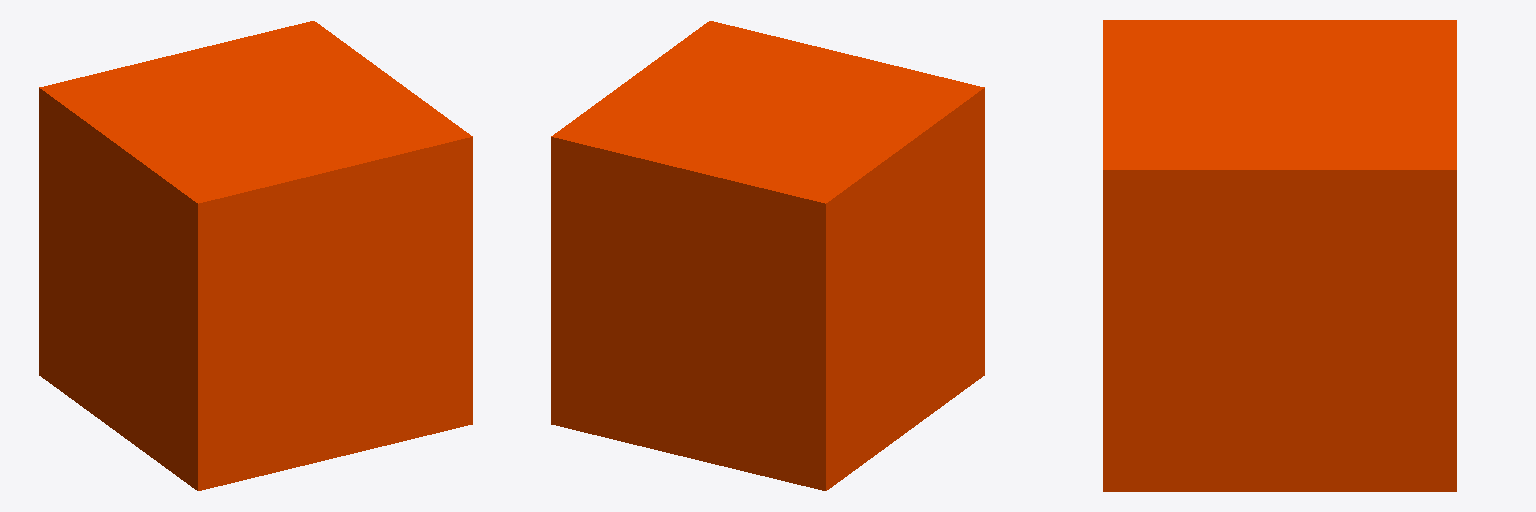
robot.urdf — cube_robot:
?<?xml version="1.0" encoding="utf-8"?>
<robot name="cube_robot">
  <material name="Powder Coat (Red)">
    <color rgba="0.9804 0.3412 0 1" />
  </material>
  <material name="No Name">
    <color rgba="1 1 1 1" />
  </material>
  <material name="Default-Material">
    <color rgba="1 1 1 1" />
  </material>
  <material name="black">
    <color rgba="0 0 0 1" />
  </material>
  <link name="base_footprint" />
  <link name="base_link">
    <inertial>
      <origin rpy="0 0 0" xyz="0.01 0 0" />
      <mass value="2" />
      <inertia ixx="0.0199950002133846" ixy="0" ixz="0" iyy="0.0199950002133846" iyz="0" izz="0.0367499999701977" />
    </inertial>
    <visual>
      <origin rpy="0 4.712389 -1.570796" xyz="0 0 0.05949" />
      <geometry>
        <box size="1 1 1" />
      </geometry>
      <material name="Powder Coat (Red)" />
    </visual>
    <collision>
      <origin rpy="0 4.712389 -1.570796" xyz="0 0 0.05949" />
      <geometry>
        <box size="1 1 1" />
      </geometry>
    </collision>
    <collision>
      <origin xyz="0 0 0.05" />
      <geometry>
        <box size="0.7 0.53 0.03" />
      </geometry>
    </collision>
  </link>
  <link name="wheel_left_link">
    <inertial>
      <origin rpy="0 0 0" xyz="0 0 0" />
      <mass value="0.0099999998" />
      <inertia ixx="0.00100000004749745" ixy="0" ixz="0" iyy="0.00100000004749745" iyz="0" izz="0.00100000004749745" />
    </inertial>
    <visual>
      <origin xyz="0 0 0.015" />
      <geometry>
        <mesh filename="package://meshes/AGV-WHEEL.stl" scale="1 1 1" />
      </geometry>
      <material name="No Name" />
    </visual>
    <collision>
      <geometry>
        <cylinder length="0.03" radius="0.1" />
      </geometry>
    </collision>
  </link>
  <link name="wheel_right_link">
    <inertial>
      <origin rpy="0 0 0" xyz="0 0 0" />
      <mass value="0.0099999998" />
      <inertia ixx="0.00100000004749745" ixy="0" ixz="0" iyy="0.00100000004749745" iyz="0" izz="0.00100000004749745" />
    </inertial>
    <visual>
      <origin xyz="0 0 0.015" />
      <geometry>
        <mesh filename="package://meshes/AGV-WHEEL.stl" scale="1 1 1" />
      </geometry>
      <material name="No Name" />
    </visual>
    <collision>
      <geometry>
        <cylinder length="0.03" radius="0.1" />
      </geometry>
    </collision>
  </link>
  <link name="caster_front_link">
    <inertial>
      <origin rpy="0 0 0" xyz="0 0 0" />
      <mass value="0.0099999998" />
      <inertia ixx="0.00100000004749745" ixy="0" ixz="0" iyy="0.00100000004749745" iyz="0" izz="0.00100000004749745" />
    </inertial>
    <visual>
      <geometry>
        <cylinder length="0.0176" radius="0.017" />
      </geometry>
      <material name="Default-Material" />
    </visual>
    <collision>
      <geometry>
        <cylinder length="0.0176" radius="0.017" />
      </geometry>
    </collision>
  </link>
  <link name="caster_back_link">
    <inertial>
      <origin rpy="0 0 0" xyz="0 0 0" />
      <mass value="0.0099999998" />
      <inertia ixx="0.00100000004749745" ixy="0" ixz="0" iyy="0.00100000004749745" iyz="0" izz="0.00100000004749745" />
    </inertial>
    <visual>
      <geometry>
        <cylinder length="0.0176" radius="0.017" />
      </geometry>
      <material name="Default-Material" />
    </visual>
    <collision>
      <geometry>
        <cylinder length="0.0176" radius="0.017" />
      </geometry>
    </collision>
  </link>
  <link name="hat">
    <inertial>
      <origin rpy="0 0 0" xyz="0 0 0" />
      <mass value="0.001" />
      <inertia ixx="1" ixy="0" ixz="0" iyy="1" iyz="0" izz="1" />
    </inertial>
    <visual>
      <origin xyz="0 0 -0.012" />
      <geometry>
        <box size="0.1 0.1 0.1" />
      </geometry>
      <material name="black" />
    </visual>
  </link>
  <link name="lidar">
    <inertial>
      <origin rpy="0 0 0" xyz="0 0 0" />
      <mass value="1" />
      <inertia ixx="1" ixy="0" ixz="0" iyy="1" iyz="0" izz="1" />
    </inertial>
  </link>
  <joint name="base_footprint_base_link_joint" type="fixed">
    <origin xyz="0 0 0.0102" />
    <parent link="base_footprint" />
    <child link="base_link" />
  </joint>
  <joint name="base_link_wheel_left_link_joint" type="continuous">
    <origin rpy="-1.570796 0 0" xyz="0 0.3 0.09" />
    <parent link="base_link" />
    <child link="wheel_left_link" />
    <axis xyz="0 0 1" />
  </joint>
  <joint name="base_link_wheel_right_link_joint" type="continuous">
    <origin rpy="-1.570796 0 0" xyz="0 -0.3 0.09" />
    <parent link="base_link" />
    <child link="wheel_right_link" />
    <axis xyz="0 0 1" />
  </joint>
  <joint name="base_link_caster_front_link_joint" type="fixed">
    <origin rpy="-1.570796 0 0" xyz="0.27 0 0.007" />
    <parent link="base_link" />
    <child link="caster_front_link" />
  </joint>
  <joint name="base_link_caster_back_link_joint" type="fixed">
    <origin rpy="-1.570796 0 0" xyz="-0.27 0 0.009" />
    <parent link="base_link" />
    <child link="caster_back_link" />
  </joint>
  <joint name="base_link_hat_joint" type="fixed">
    <origin xyz="0.223 0 0.14" />
    <parent link="base_link" />
    <child link="hat" />
  </joint>
  <joint name="base_link_lidar_joint" type="fixed">
    <origin xyz="0.217 0 0.225" />
    <parent link="base_link" />
    <child link="lidar" />
  </joint>
  <gazebo reference="wheel_left_link">
  <mu1>1.0</mu1>
  <mu2>1.0</mu2>
  <kp>1000000.0</kp>
  <kd>100.0</kd>
  <minDepth>0.001</minDepth>
  <maxVel>1.0</maxVel>
</gazebo>
<gazebo reference="wheel_right_link">
  <mu1>1.0</mu1>
  <mu2>1.0</mu2>
  <kp>1000000.0</kp>
  <kd>100.0</kd>
  <minDepth>0.001</minDepth>
  <maxVel>1.0</maxVel>
</gazebo>
<gazebo reference="caster_front_link">
  <mu1>0.0</mu1>
  <mu2>0.0</mu2>
  <kp>1000000.0</kp>
  <kd>100.0</kd>
  <minDepth>0.001</minDepth>
  <maxVel>1.0</maxVel>
</gazebo>
<gazebo reference="caster_back_link">
  <mu1>0.0</mu1>
  <mu2>0.0</mu2>
  <kp>1000000.0</kp>
  <kd>100.0</kd>
  <minDepth>0.001</minDepth>
  <maxVel>1.0</maxVel>
</gazebo>
<gazebo reference="base_link">
  <mu1>0.3</mu1>
  <mu2>0.3</mu2>
  <sensor name="bumpers" type="contact">
    <always_on>1</always_on>
    <update_rate>50.0</update_rate>
    <visualize>true</visualize>
    <contact>
      <collision>base_footprint_fixed_joint_lump__base_collision</collision>
    </contact>
  </sensor>
</gazebo>
<gazebo reference="cliff_sensor_left_link">
  <sensor name="cliff_sensor_left" type="ray">
    <always_on>true</always_on>
    <update_rate>50</update_rate>
    <visualize>true</visualize>
    <ray>
      <scan>
        <horizontal>
          <samples>50</samples>
          <resolution>1.0</resolution>
          <min_angle>-0.0436</min_angle>
          <!-- -2.5 degree -->
          <max_angle>0.0436</max_angle>
          <!-- 2.5 degree -->
        </horizontal>
        <!--            Can't use vertical rays until this bug is resolved: -->
        <!--            https://bitbucket.org/osrf/gazebo/issue/509/vertical-sensor-doesnt-works -->
        <!-- \t          <vertical> -->
        <!-- \t            <samples>50</samples> -->
        <!-- \t            <resolution>1.0</resolution> -->
        <!-- \t            <min_angle>-0.0436</min_angle>  -2.5 degree -->
        <!-- \t            <max_angle>0.0436</max_angle> 2.5 degree -->
        <!-- \t          </vertical> -->
      </scan>
      <range>
        <min>0.01</min>
        <max>0.15</max>
        <resolution>1.0</resolution>
      </range>
    </ray>
  </sensor>
</gazebo>
<gazebo reference="cliff_sensor_right_link">
  <sensor name="cliff_sensor_right" type="ray">
    <always_on>true</always_on>
    <update_rate>50</update_rate>
    <visualize>true</visualize>
    <ray>
      <scan>
        <horizontal>
          <samples>50</samples>
          <resolution>1.0</resolution>
          <min_angle>-0.0436</min_angle>
          <!-- -2.5 degree -->
          <max_angle>0.0436</max_angle>
          <!-- 2.5 degree -->
        </horizontal>
        <!--            Can't use vertical rays until this bug is resolved: -->
        <!--            https://bitbucket.org/osrf/gazebo/issue/509/vertical-sensor-doesnt-works -->
        <!-- \t          <vertical> -->
        <!-- \t            <samples>50</samples> -->
        <!-- \t            <resolution>1.0</resolution> -->
        <!-- \t            <min_angle>-0.0436</min_angle>  -2.5 degree -->
        <!-- \t            <max_angle>0.0436</max_angle> 2.5 degree -->
        <!-- \t          </vertical> -->
      </scan>
      <range>
        <min>0.01</min>
        <max>0.15</max>
        <resolution>1.0</resolution>
      </range>
    </ray>
  </sensor>
</gazebo>
<gazebo reference="cliff_sensor_front_link">
  <sensor name="cliff_sensor_front" type="ray">
    <always_on>true</always_on>
    <update_rate>50</update_rate>
    <visualize>true</visualize>
    <ray>
      <scan>
        <horizontal>
          <samples>50</samples>
          <resolution>1.0</resolution>
          <min_angle>-0.0436</min_angle>
          <!-- -2.5 degree -->
          <max_angle>0.0436</max_angle>
          <!-- 2.5 degree -->
        </horizontal>
        <!-- \t          Can't use vertical rays until this bug is resolved: -->
        <!--            https://bitbucket.org/osrf/gazebo/issue/509/vertical-sensor-doesnt-works -->
        <!-- \t          <vertical> -->
        <!-- \t            <samples>50</samples> -->
        <!-- \t            <resolution>1.0</resolution> -->
        <!-- \t            <min_angle>-0.0436</min_angle>  -2.5 degree -->
        <!-- \t            <max_angle>0.0436</max_angle> 2.5 degree -->
        <!-- \t          </vertical> -->
      </scan>
      <range>
        <min>0.01</min>
        <max>0.15</max>
        <resolution>1.0</resolution>
      </range>
    </ray>
  </sensor>
</gazebo>
<gazebo reference="gyro_link">
  <sensor name="imu" type="imu">
    <always_on>true</always_on>
    <update_rate>50</update_rate>
    <visualize>false</visualize>
    <imu>
      <noise>
        <type>gaussian</type>
        <rate>
          <mean>0.0</mean>
          <stddev>1.96e-06</stddev>
          <!-- 0.25 x 0.25 (deg/s) -->
          <bias_mean>0.0</bias_mean>
          <bias_stddev>0.0</bias_stddev>
        </rate>
        <accel>
          <!-- not used in the plugin and real robot, hence using tutorial values -->
          <mean>0.0</mean>
          <stddev>1.7e-2</stddev>
          <bias_mean>0.1</bias_mean>
          <bias_stddev>0.001</bias_stddev>
        </accel>
      </noise>
    </imu>
  </sensor>
</gazebo>
<gazebo>
  <plugin filename="libgazebo_ros_kobuki.so" name="kobuki_controller">
    <publish_tf>1</publish_tf>
    <left_wheel_joint_name>wheel_left_joint</left_wheel_joint_name>
    <right_wheel_joint_name>wheel_right_joint</right_wheel_joint_name>
    <wheel_separation>.230</wheel_separation>
    <wheel_diameter>0.070</wheel_diameter>
    <torque>1.0</torque>
    <velocity_command_timeout>0.6</velocity_command_timeout>
    <cliff_sensor_left_name>cliff_sensor_left</cliff_sensor_left_name>
    <cliff_sensor_center_name>cliff_sensor_front</cliff_sensor_center_name>
    <cliff_sensor_right_name>cliff_sensor_right</cliff_sensor_right_name>
    <cliff_detection_threshold>0.04</cliff_detection_threshold>
    <bumper_name>bumpers</bumper_name>
    <imu_name>imu</imu_name>
  </plugin>
</gazebo>
<gazebo reference="camera_link">
  <sensor name="camera" type="depth">
    <always_on>true</always_on>
    <update_rate>20.0</update_rate>
    <camera>
      <horizontal_fov>1.0471975512</horizontal_fov>
      <image>
        <format>B8G8R8</format>
        <width>640</width>
        <height>480</height>
      </image>
      <clip>
        <near>0.05</near>
        <far>8.0</far>
      </clip>
    </camera>
    <plugin filename="libgazebo_ros_openni_kinect.so" name="kinect_camera_controller">
      <cameraName>camera</cameraName>
      <alwaysOn>true</alwaysOn>
      <updateRate>10</updateRate>
      <imageTopicName>rgb/image_raw</imageTopicName>
      <depthImageTopicName>depth/image_raw</depthImageTopicName>
      <pointCloudTopicName>depth/points</pointCloudTopicName>
      <cameraInfoTopicName>rgb/camera_info</cameraInfoTopicName>
      <depthImageCameraInfoTopicName>depth/camera_info</depthImageCameraInfoTopicName>
      <frameName>camera_depth_optical_frame</frameName>
      <baseline>0.1</baseline>
      <distortion_k1>0.0</distortion_k1>
      <distortion_k2>0.0</distortion_k2>
      <distortion_k3>0.0</distortion_k3>
      <distortion_t1>0.0</distortion_t1>
      <distortion_t2>0.0</distortion_t2>
      <pointCloudCutoff>0.4</pointCloudCutoff>
    </plugin>
  </sensor>
</gazebo>
</robot>

--- What the picture shows (computed from the rendered views, not written in the file) ---
Views: 3 orthographic renders of the robot side by side, from view 1: azimuth 30°, elevation 25°; view 2: azimuth 150°, elevation 25°; view 3: azimuth 270°, elevation 25°.
Model cube_robot with 8 links and 7 joints (2 continuous, 5 fixed), rooted at base_footprint, posed all joints at 0.
Visible links, largest first — view 1: base_link; view 2: base_link; view 3: base_link.
Boxes of the visible links, bbox=[...] form: base_link: bbox=[39, 21, 472, 490]; base_link: bbox=[551, 21, 984, 490]; base_link: bbox=[1103, 20, 1456, 491].
Bounding box of the posed robot: 1 × 1 × 1 m (x, y, z).
2 mesh visuals loaded from 1 distinct referenced files (1 ASCII STL).
